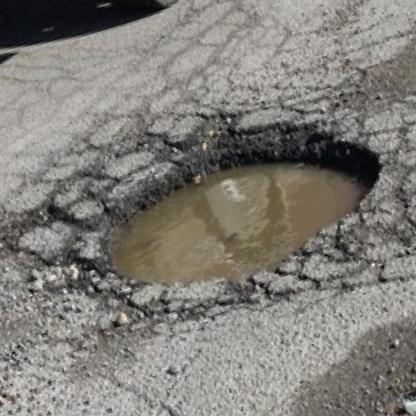pothole: (61, 94, 409, 329)
